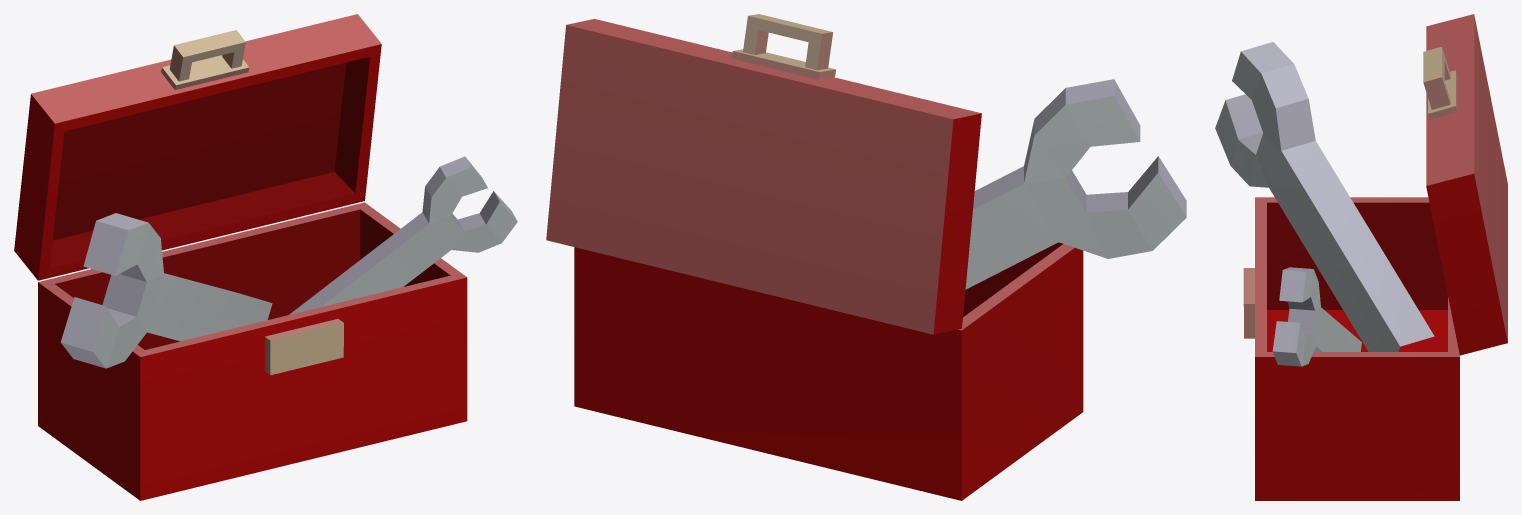
File: colect_tools.glb
3 renders of one model, left to right at view 1: azimuth 30°, elevation 25°; view 2: azimuth 150°, elevation 25°; view 3: azimuth 270°, elevation 25°, orthographic. The views are drawn at different scales.
Visible parts, largest first — view 1: colect_tools; view 2: colect_tools; view 3: colect_tools.
Part boxes in pixels (bbox=[...]): colect_tools: bbox=[14, 14, 517, 500]; colect_tools: bbox=[546, 14, 1186, 500]; colect_tools: bbox=[1215, 14, 1507, 500].
Size of the model in its own units: 0.5363 by 0.3842 by 0.2857.
